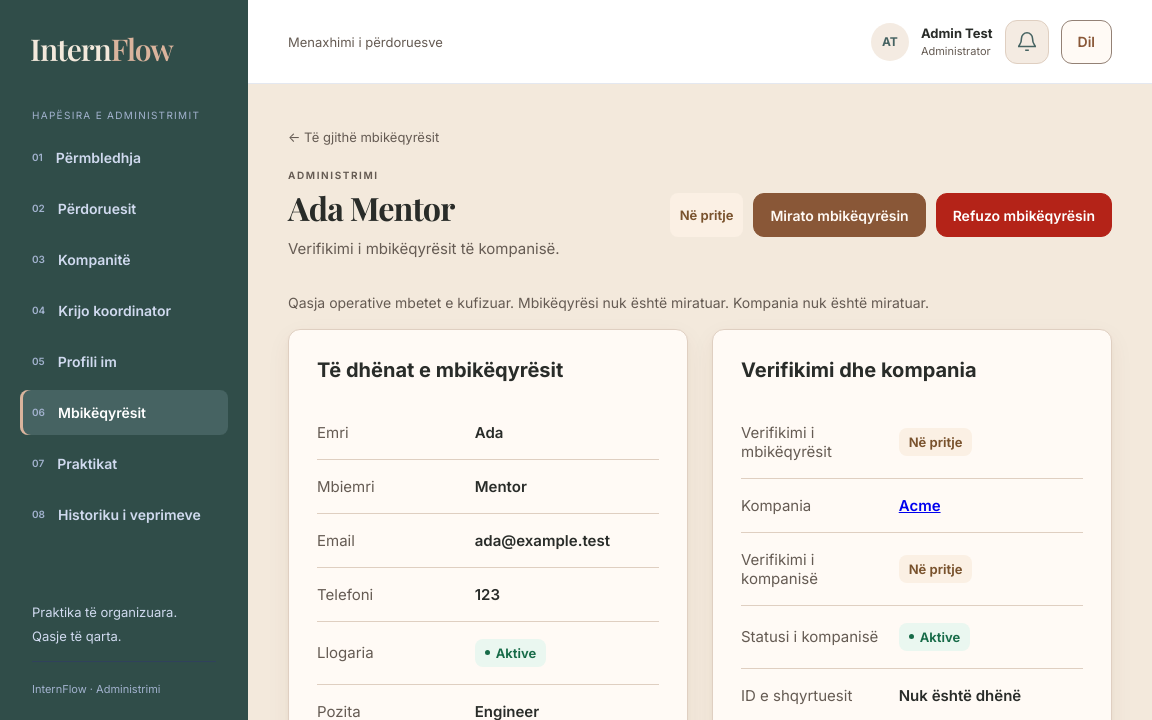
it: Admin supervisors › requires a rejection reason, handles validation errors and shows the saved reason
Click the button "Refuzo mbikëqyrësin".
click(1024, 215)  # box [936,193,1112,237]
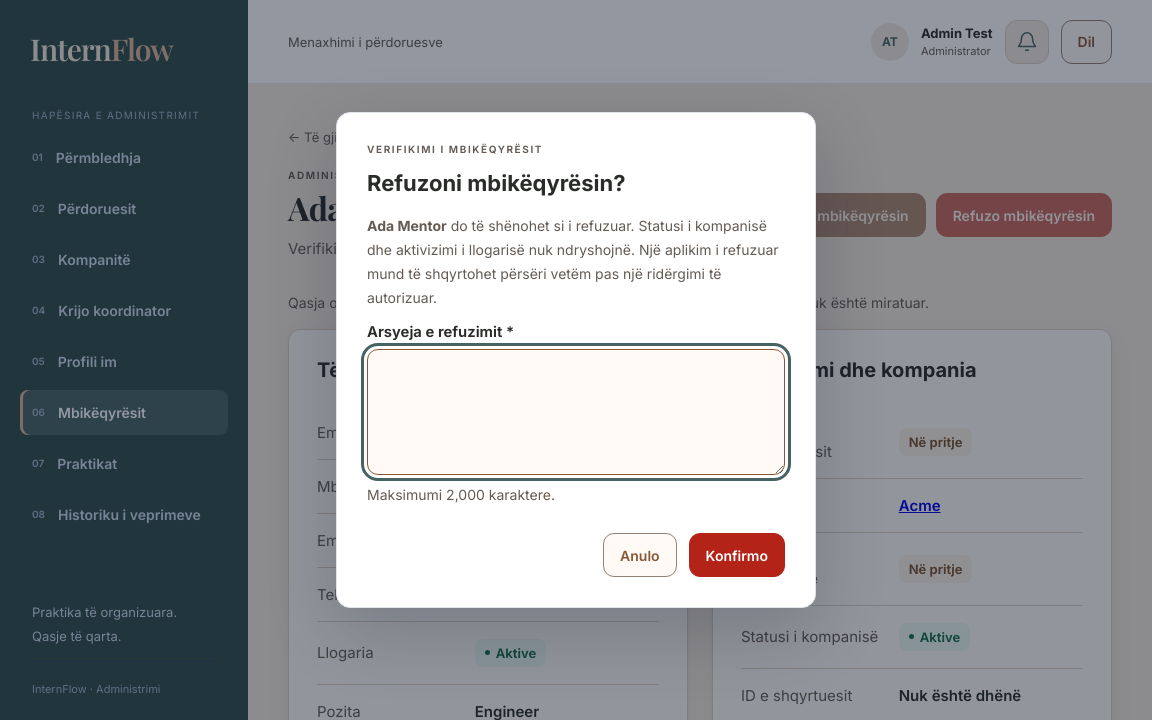
Click the button "Konfirmo".
click(737, 555)  # box [689,533,785,577]
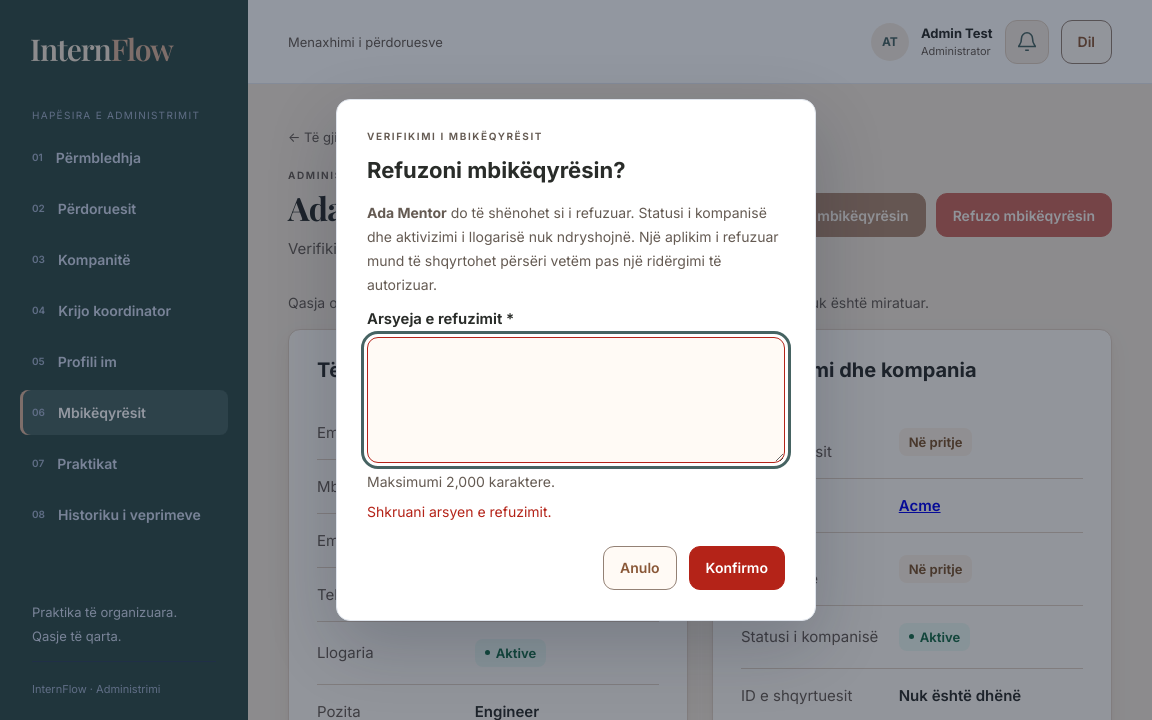
Type "  Cannot verify.  " into the text box labelled "Arsyeja e refuzimit *".
click(576, 400); type("  Cannot verify.  ")  # box [367,337,785,463]
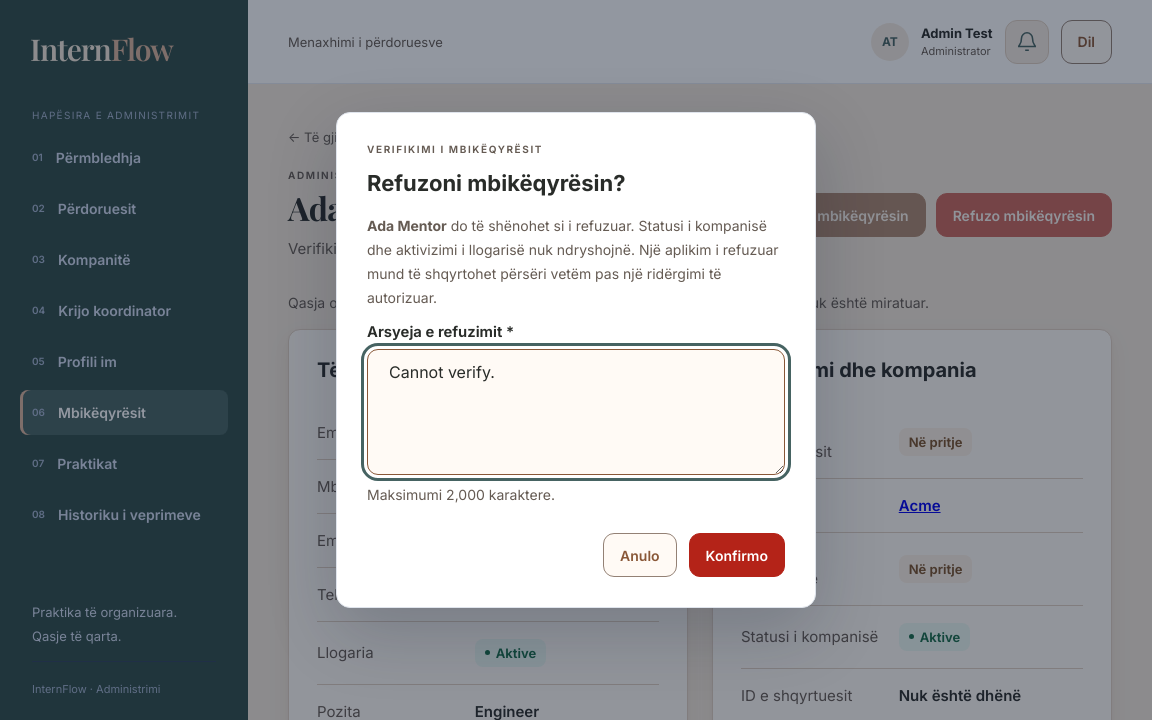
Click the button "Konfirmo".
click(737, 555)  # box [689,533,785,577]
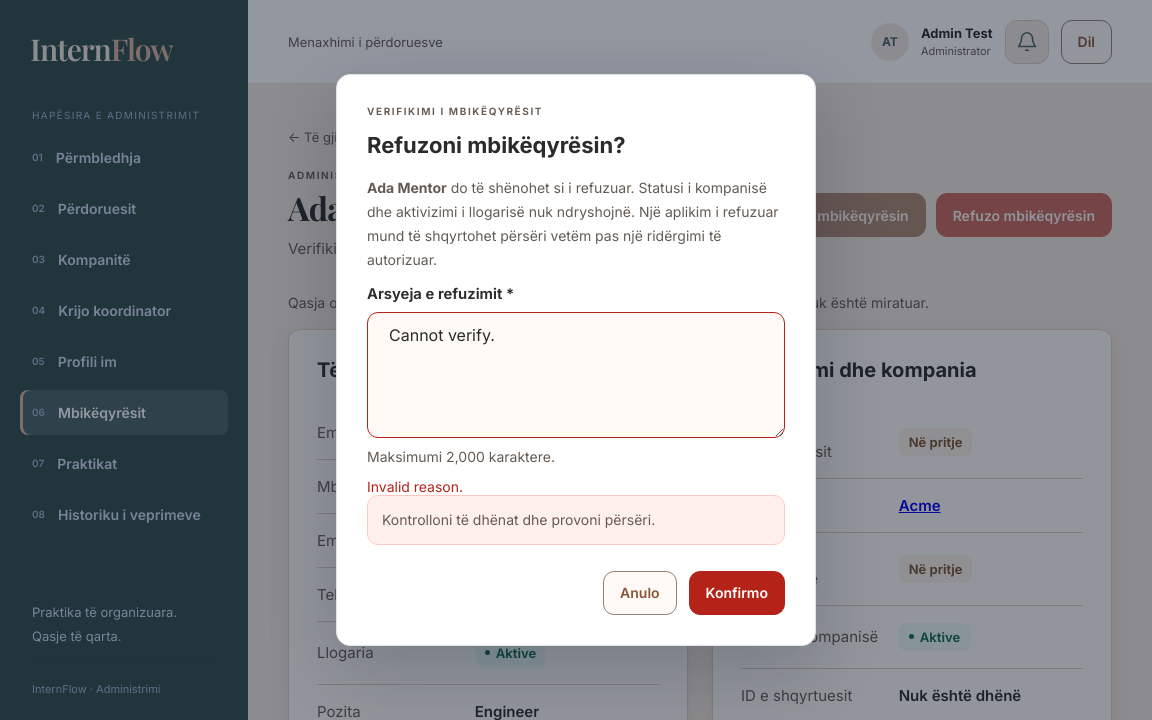
Check: the text "Invalid reason." is shown, box [367,478,463,495]
Click the button "Konfirmo".
click(737, 592)  # box [689,570,785,614]
(page scrolled)
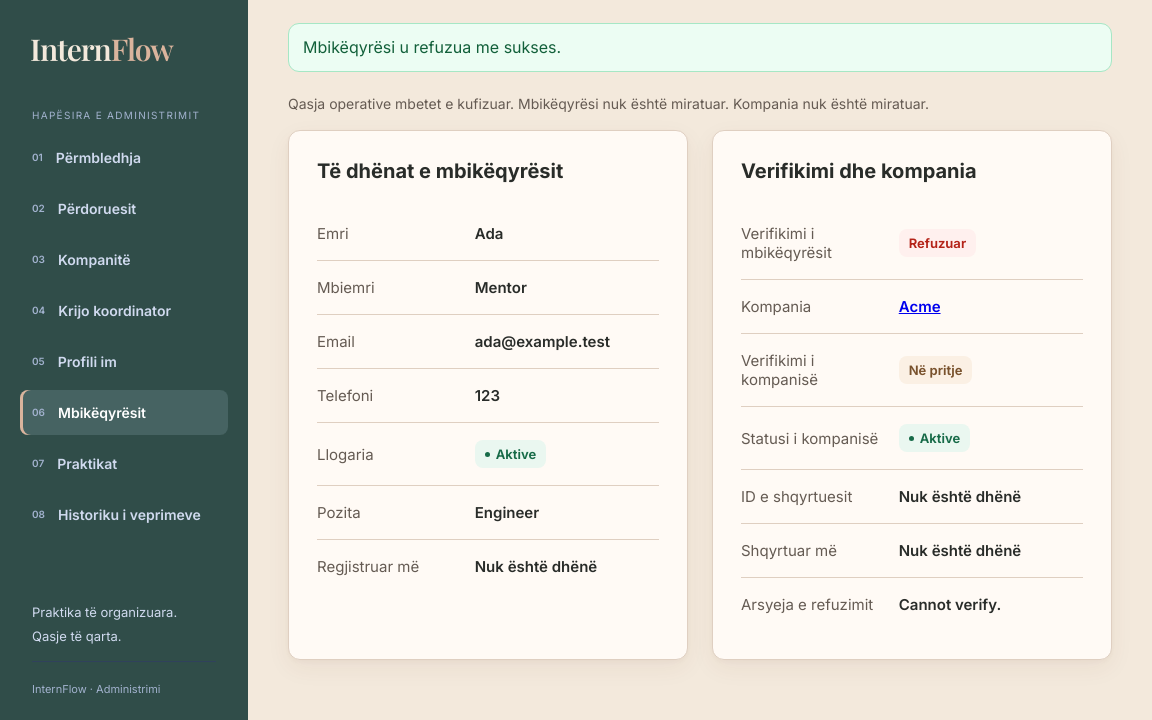
Check: the text "Mbikëqyrësi u refuzua me sukses." is shown, box [288,23,1112,72]
Check: the text "Cannot verify." is shown, box [899,595,1001,614]
Check: the button "Refuzo mbikëqyrësin" is gone
